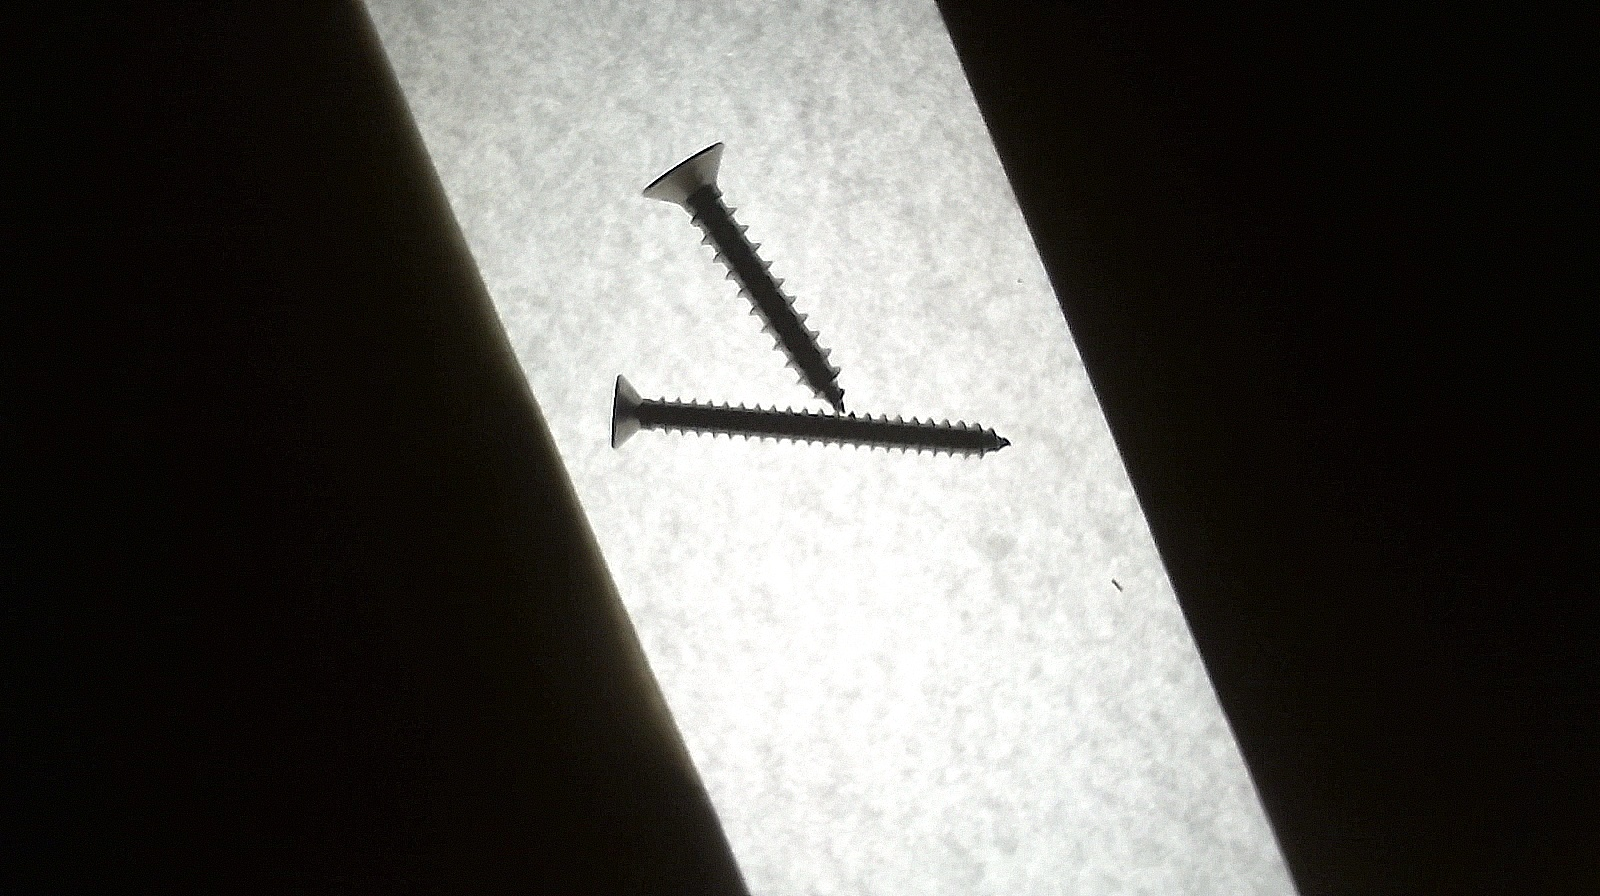S001: (637, 136, 848, 411)
S002: (605, 369, 1013, 465)
